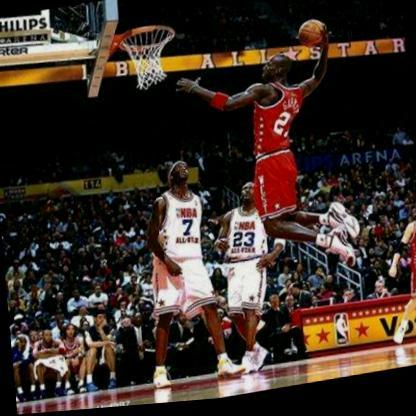basketball: (297, 24, 325, 54)
rim: (118, 24, 181, 95)
